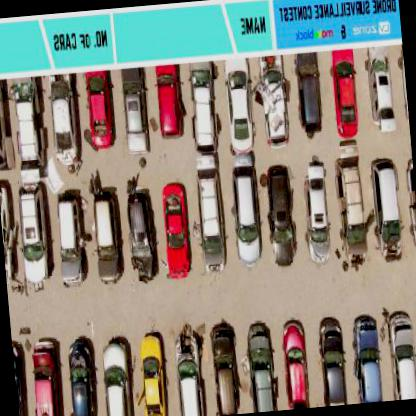car: (192, 153, 228, 273), (333, 142, 367, 262), (298, 160, 334, 264), (7, 77, 48, 166), (47, 72, 85, 168), (261, 167, 297, 266), (123, 186, 159, 282), (90, 192, 126, 286), (276, 319, 312, 409), (186, 60, 221, 152), (160, 179, 192, 279), (257, 54, 291, 148), (381, 308, 415, 401), (230, 170, 262, 268), (223, 57, 255, 154), (328, 49, 361, 138), (350, 312, 382, 403), (370, 162, 402, 252), (314, 317, 346, 406), (242, 324, 276, 407), (119, 67, 150, 155), (364, 48, 396, 132), (82, 70, 116, 149), (99, 339, 134, 415), (171, 339, 206, 415), (16, 194, 46, 282), (54, 198, 84, 286), (152, 65, 186, 141), (293, 52, 323, 134), (63, 344, 97, 415), (208, 334, 238, 414), (139, 333, 167, 415), (29, 347, 61, 415), (0, 80, 14, 176), (402, 168, 415, 256)
